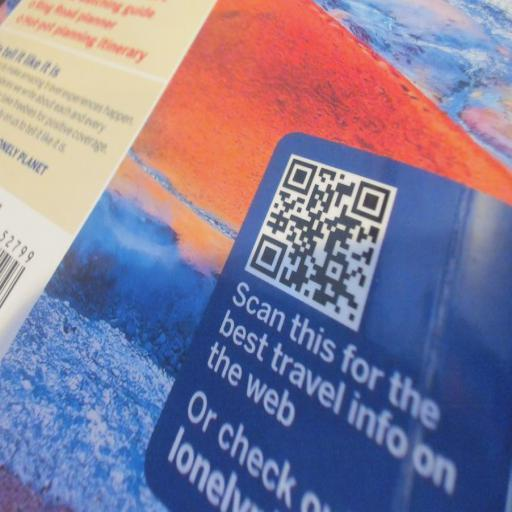qr_code: (249, 158, 391, 323)
